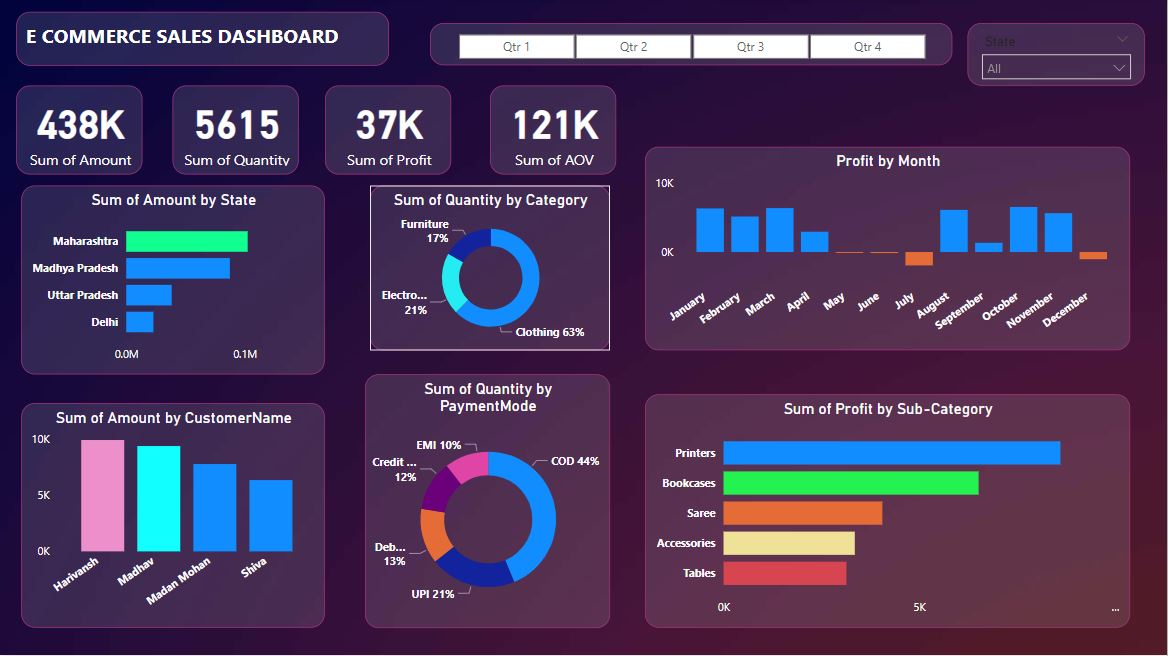

This screenshot's page, from the dashboard's own definition file:
{"tool":"powerbi","page":{"name":"Page 1","canvas":[1280,720],"ordinal":0},"visuals":[{"type":"columnChart","title":" Profit by Month","fields":{"Y":["Details.Profit"],"Category":["Orders.Order Date.Variation.Date Hierarchy.Month"]},"box":[707.3,163.1,531.9,223.4],"z":1000},{"type":"barChart","fields":{"Category":["Details.Sub-Category"],"Y":["Details.Profit"]},"box":[707.3,434.5,531.9,256.3],"z":2000},{"type":"donutChart","fields":{"Category":["Details.Category"],"Y":["Details.Quantity"]},"box":[405.7,205.6,263.2,180.9],"z":3000},{"type":"donutChart","fields":{"Y":["Details.Quantity"],"Category":["Details.PaymentMode"]},"box":[400.3,412.6,268.7,278.3],"z":4000},{"type":"card","fields":{"Values":["Details.Amount"]},"box":[17.8,96,138.4,97.3],"z":5000},{"type":"card","fields":{"Values":["Details.Quantity"]},"box":[189.2,96,138.4,97.3],"z":6000},{"type":"card","fields":{"Values":["Details.Profit"]},"box":[356.4,96,138.4,97.3],"z":7000},{"type":"card","fields":{"Values":["Details.AOV"]},"box":[537.3,96,138.4,97.3],"z":8000},{"type":"barChart","fields":{"Category":["Orders.State"],"Y":["Details.Amount"]},"box":[23.3,205.6,333.1,207],"z":9000},{"type":"columnChart","fields":{"Category":["Orders.CustomerName"],"Y":["Details.Amount"]},"box":[23.3,444.1,333.1,246.7],"z":10000},{"type":"slicer","fields":{"Values":["Orders.Order Date.Variation.Date Hierarchy.Quarter"]},"box":[471.5,27.4,573,46.6],"z":10001},{"type":"slicer","fields":{"Values":["Orders.State"]},"box":[1061,27.4,194.6,68.5],"z":10002},{"type":"textbox","box":[17.8,15.1,408.5,58.9],"z":10003}]}

Visuals, with their boxes in screenshot pixels (x1, y1, x2, y2), scaled from the page's 1280x720 canvas onto the 1168x656 screenshot:
" Profit by Month" columnChart: (645, 149, 1131, 352)
barChart - Details.Sub-Category x Details.Profit: (645, 396, 1131, 629)
donutChart - Details.Category x Details.Quantity: (370, 187, 610, 352)
donutChart - Details.Quantity x Details.PaymentMode: (365, 376, 610, 629)
card - Details.Amount: (16, 87, 143, 176)
card - Details.Quantity: (173, 87, 299, 176)
card - Details.Profit: (325, 87, 452, 176)
card - Details.AOV: (490, 87, 617, 176)
barChart - Orders.State x Details.Amount: (21, 187, 325, 376)
columnChart - Orders.CustomerName x Details.Amount: (21, 405, 325, 629)
slicer - Orders.Order Date.Variation.Date Hierarchy.Quarter: (430, 25, 953, 67)
slicer - Orders.State: (968, 25, 1146, 87)
textbox: (16, 14, 389, 67)
